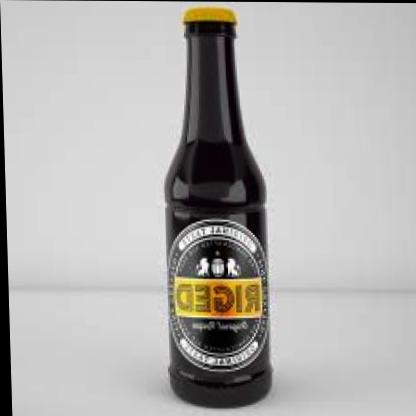trash: (165, 7, 271, 406)
